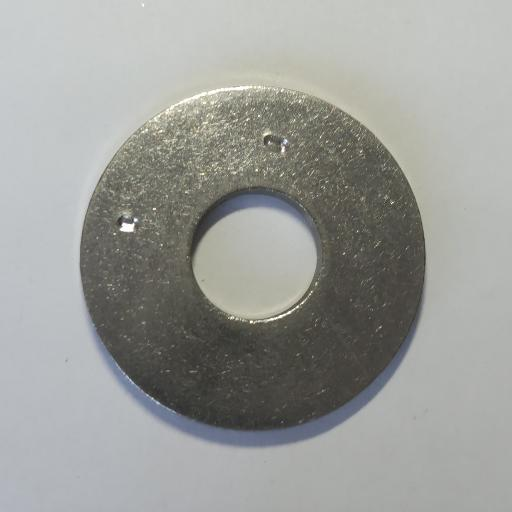circular_cavity: (264, 135, 289, 153), (116, 215, 139, 234)
